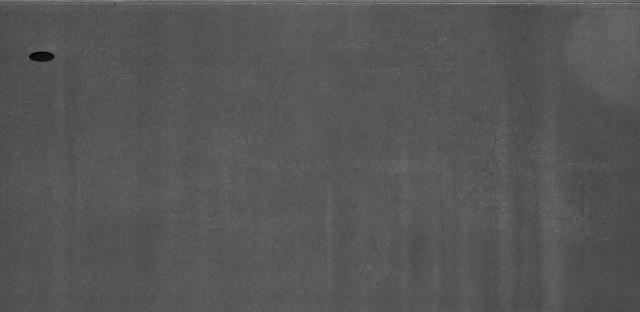punching_hole: (25, 46, 61, 66)
